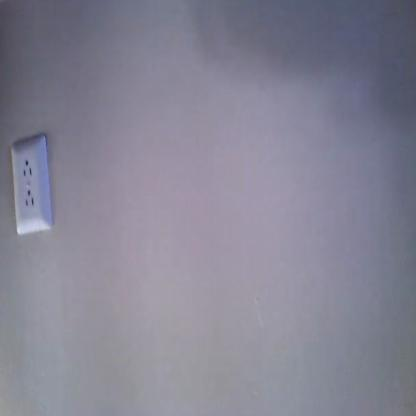OUTLET: (9, 138, 49, 236)
